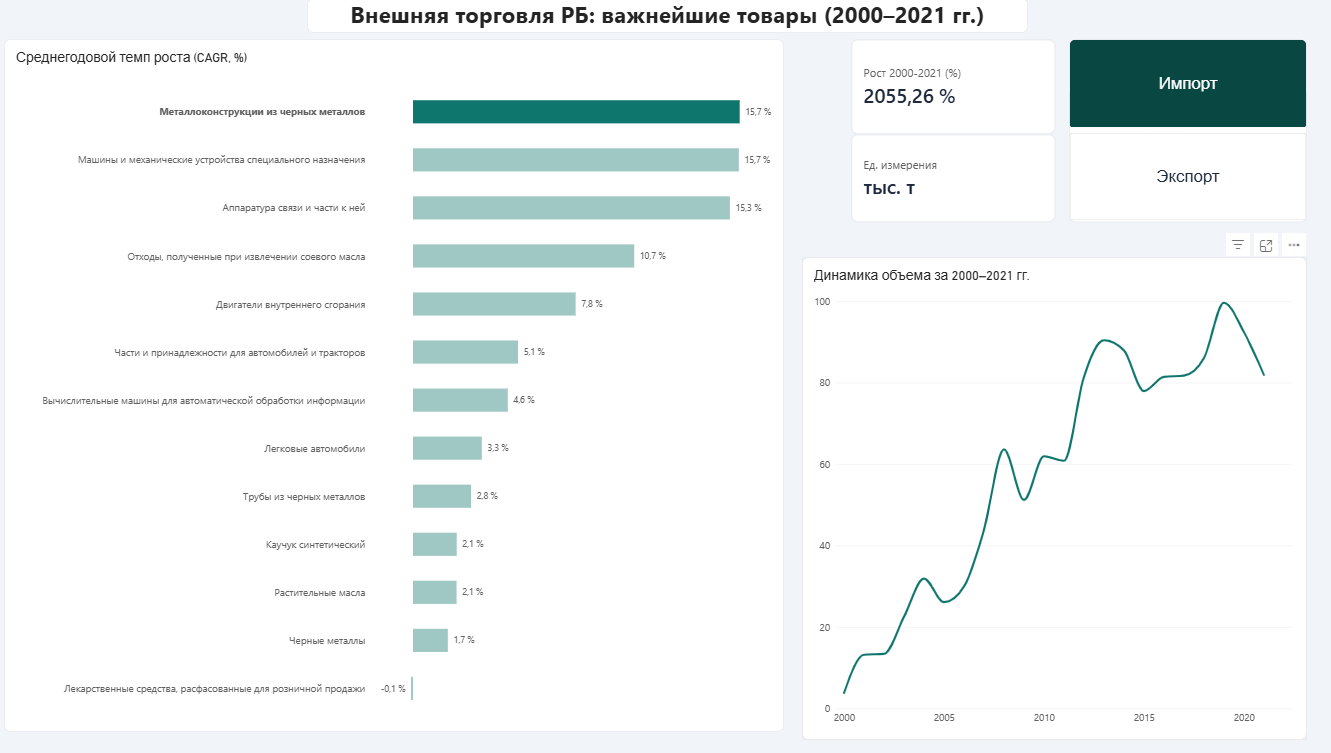

What the dashboard file says about the page in this screenshot:
{"tool":"powerbi","page":{"name":"Обзор и тренды","canvas":[1920,1080],"ordinal":0},"visuals":[{"type":"advancedSlicerVisual","fields":{"Values":["Fact_Trade.Поток"]},"box":[1533.3,58.3,340,261.7],"z":0},{"type":"clusteredBarChart","title":"Среднегодовой темп роста (CAGR, %)","fields":{"Category":["Fact_Trade.Товар"],"Y":["Fact_Trade.CAGR (%)"]},"box":[12,58,1114,990],"z":1000},{"type":"cardVisual","fields":{"Data":["Fact_Trade.Рост 2000-2021 (%)"]},"box":[1222,58,292,136],"z":2000},{"type":"cardVisual","fields":{"Data":["Fact_Trade.Ед. измерения"]},"box":[1222,194,292,126],"z":3000},{"type":"areaChart","title":"Динамика объема за 2000–2021 гг.","fields":{"Category":["Fact_Trade.Год"],"Y":["Fact_Trade.Объем (выбранный товар)"]},"box":[1151.7,370,721.4,690],"z":4000},{"type":"textbox","box":[444,0,1030,50],"z":5000}]}

Visuals, with their boxes in screenshot pixels (x1, y1, x2, y2), scaled from the page's 1920x1080 canvas onto the 1331x753 screenshot:
advancedSlicerVisual - Fact_Trade.Поток: l=1063, t=41, r=1299, b=223
"Среднегодовой темп роста (CAGR, %)" clusteredBarChart: l=8, t=40, r=781, b=731
cardVisual - Fact_Trade.Рост 2000-2021 (%): l=847, t=40, r=1050, b=135
cardVisual - Fact_Trade.Ед. измерения: l=847, t=135, r=1050, b=223
"Динамика объема за 2000–2021 гг." areaChart: l=798, t=258, r=1298, b=739
textbox: l=308, t=0, r=1022, b=35
